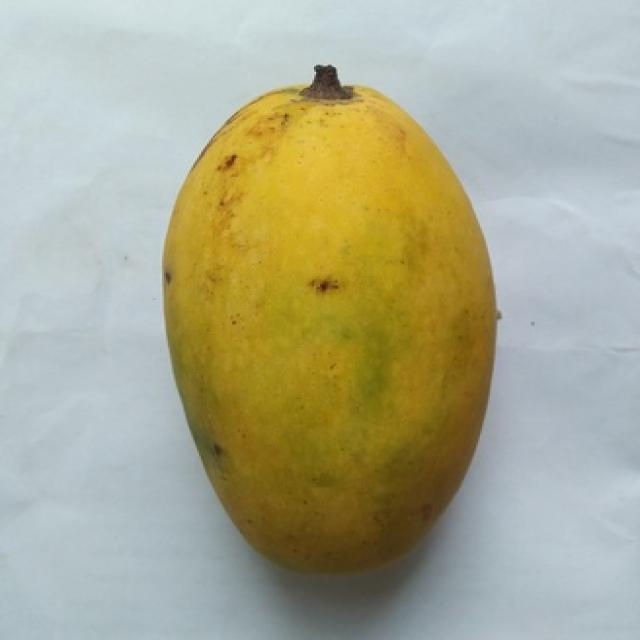Mango: (164, 69, 494, 570)
